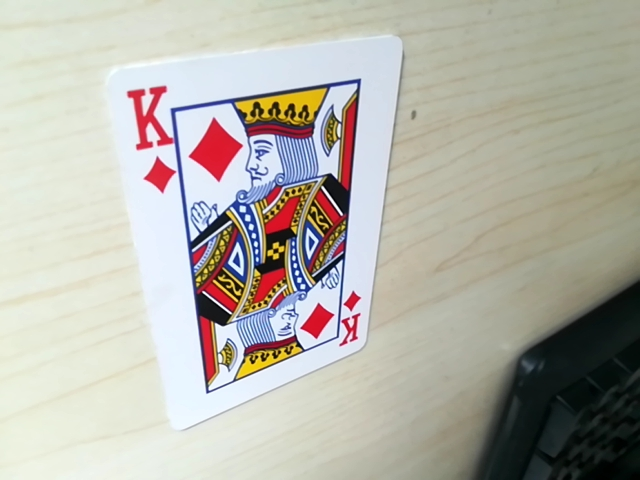fk k: (327, 302, 368, 350), (119, 74, 170, 107)
